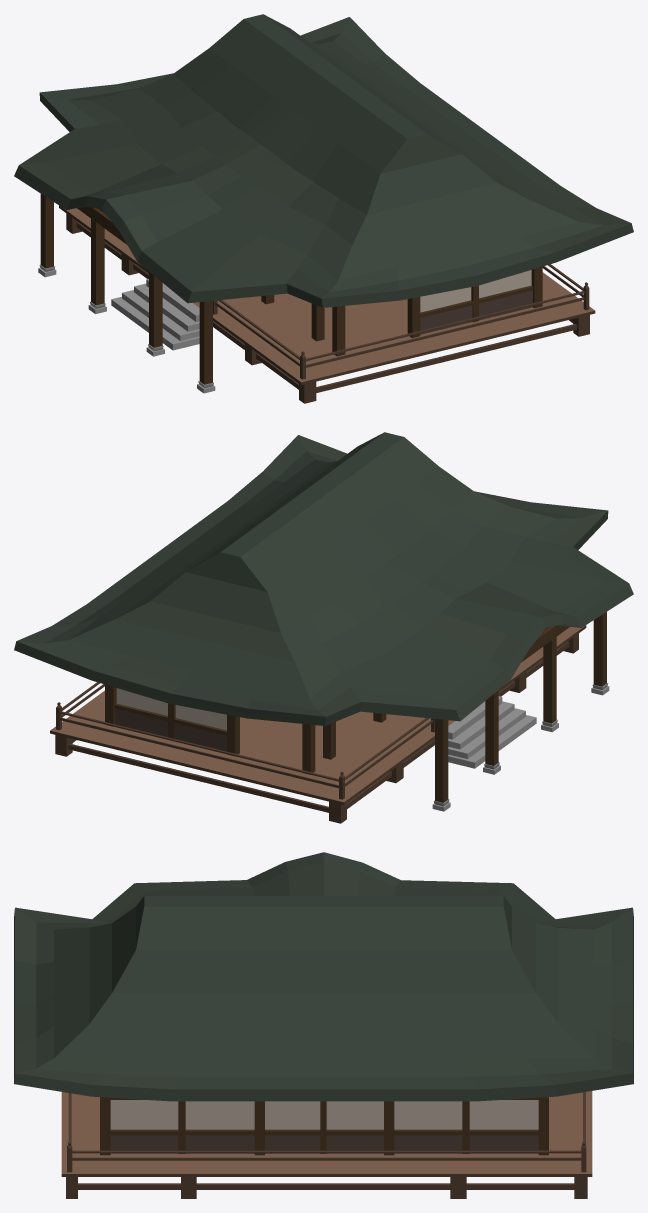
File: temple.fbx
3 renders of one model, top to bottom at view 1: azimuth 30°, elevation 25°; view 2: azimuth 150°, elevation 25°; view 3: azimuth 270°, elevation 25°, orthographic. The views are drawn at different scales.
Parts seen in each view (by area): view 1: temple.060; view 2: temple.060; view 3: temple.060.
Part boxes in pixels (x1=…): temple.060: x1=14, y1=14, x2=633, y2=403; temple.060: x1=14, y1=432, x2=633, y2=823; temple.060: x1=14, y1=852, x2=633, y2=1198.
Bounding box in the file's own units: 952 × 476 × 1192.
